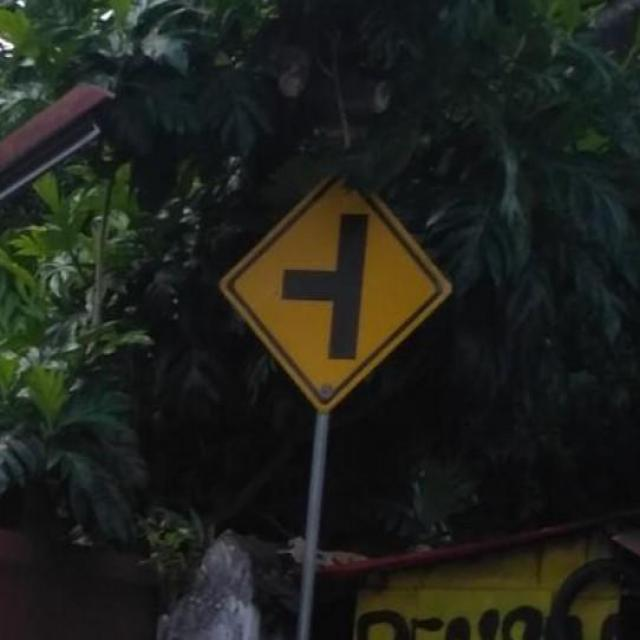traffic sign: (242, 195, 446, 395)
